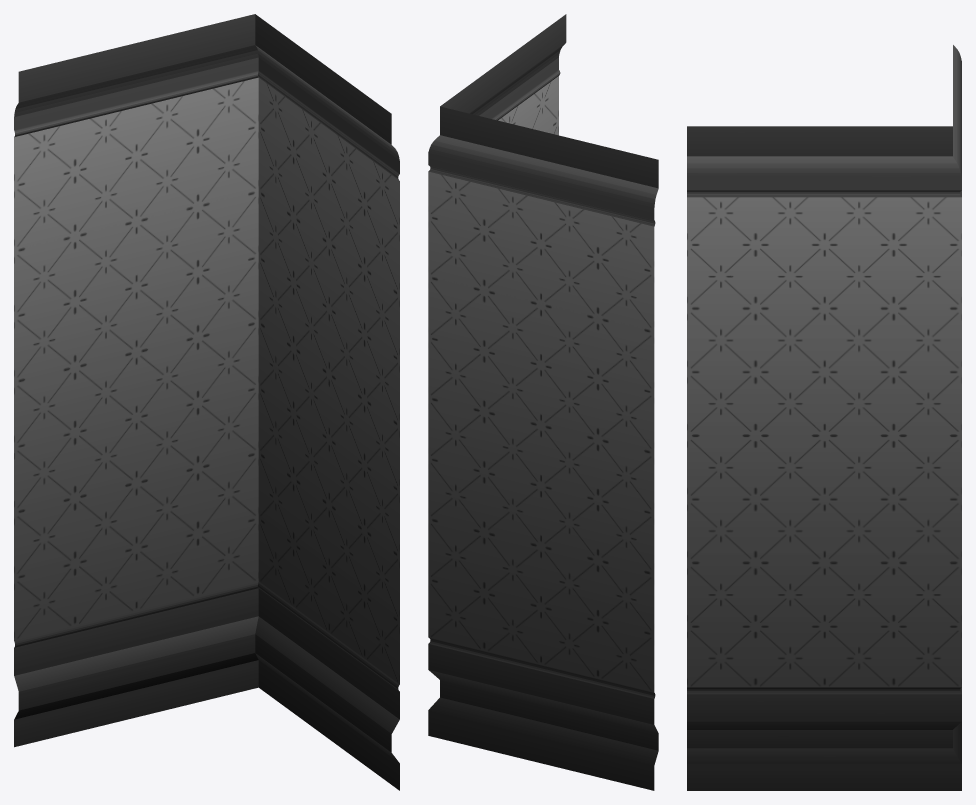
Rendered from Wall_02_Int_Dark.fbx.
The picture shows the model from 3 angles, left to right: view 1: azimuth 30°, elevation 25°; view 2: azimuth 150°, elevation 25°; view 3: azimuth 270°, elevation 25°; orthographic projection. The views are drawn at different scales.
Visible parts, largest first — view 1: Wall_02_Int_Dark; view 2: Wall_02_Int_Dark; view 3: Wall_02_Int_Dark.
Part boxes in pixels (bbox=[...]): Wall_02_Int_Dark: bbox=[14, 14, 399, 790]; Wall_02_Int_Dark: bbox=[428, 14, 658, 790]; Wall_02_Int_Dark: bbox=[687, 45, 961, 790].
Size of the model in its own units: 0.9999 by 2.65 by 0.9999.
